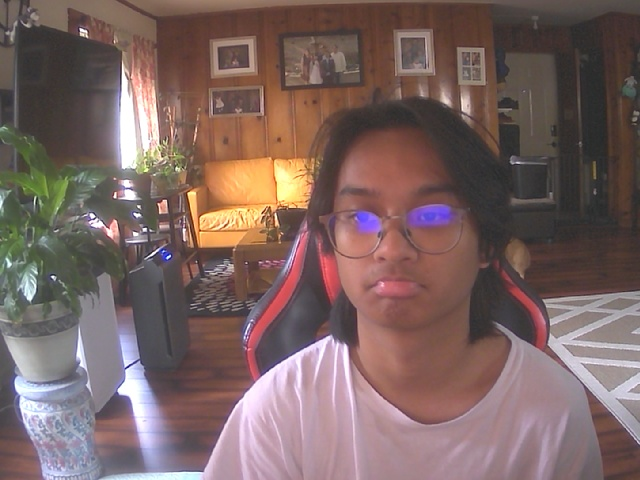sad: (314, 119, 501, 336)
